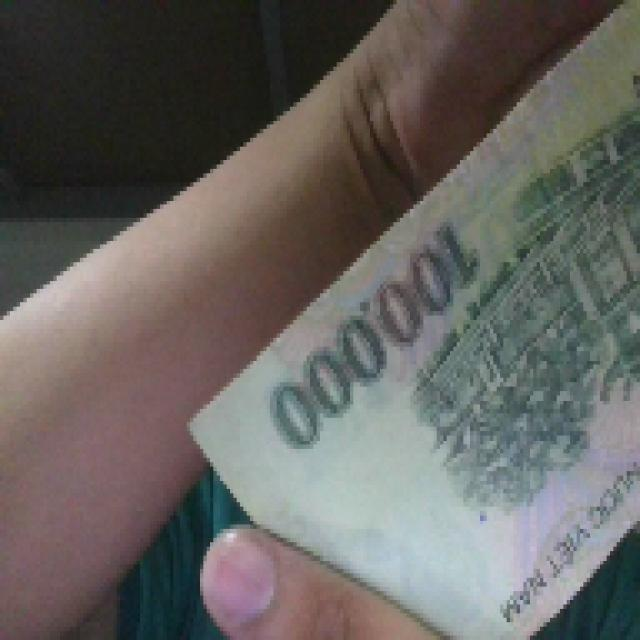100 000 VND: (183, 0, 637, 636)
